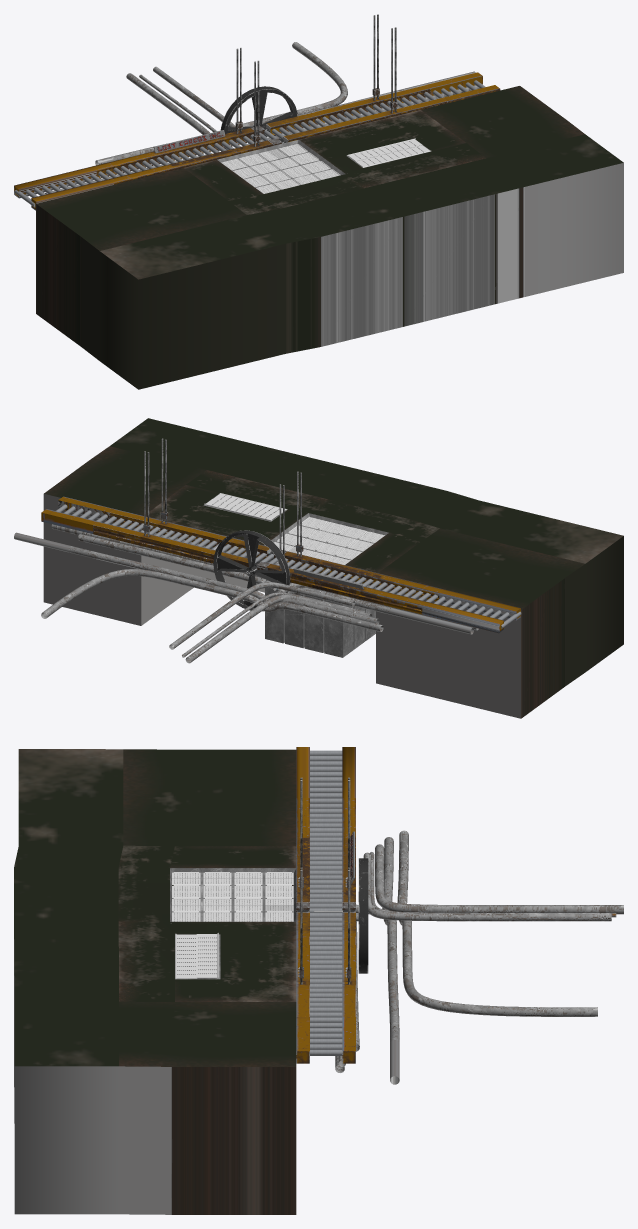
The picture shows the model from 3 angles, top to bottom: view 1: azimuth 30°, elevation 25°; view 2: azimuth 150°, elevation 25°; view 3: azimuth 270°, elevation 25°; orthographic projection. The views are drawn at different scales.
Parts seen in each view (by area): view 1: model1, model2, model2.001, danger_left, danger_right; view 2: model1, model2, model2.001, danger_left, danger_right; view 3: model1, model2, model2.001, danger_left, danger_right.
Part boxes in pixels (x1=…): model1: x1=36, y1=86, x2=623, y2=389; model2: x1=14, y1=14, x2=500, y2=210; model2.001: x1=220, y1=86, x2=297, y2=143; danger_left: x1=347, y1=138, x2=422, y2=161; danger_right: x1=355, y1=145, x2=430, y2=167; model1: x1=43, y1=418, x2=623, y2=718; model2: x1=14, y1=438, x2=521, y2=663; model2.001: x1=213, y1=530, x2=290, y2=611; danger_left: x1=204, y1=498, x2=278, y2=520; danger_right: x1=214, y1=493, x2=287, y2=515; model1: x1=14, y1=749, x2=296, y2=1214; model2: x1=296, y1=747, x2=623, y2=1084; model2.001: x1=297, y1=858, x2=368, y2=973; danger_left: x1=196, y1=933, x2=218, y2=978; danger_right: x1=175, y1=933, x2=197, y2=979.
Bounding box in the file's own units: 3266 × 1266 × 2646.
